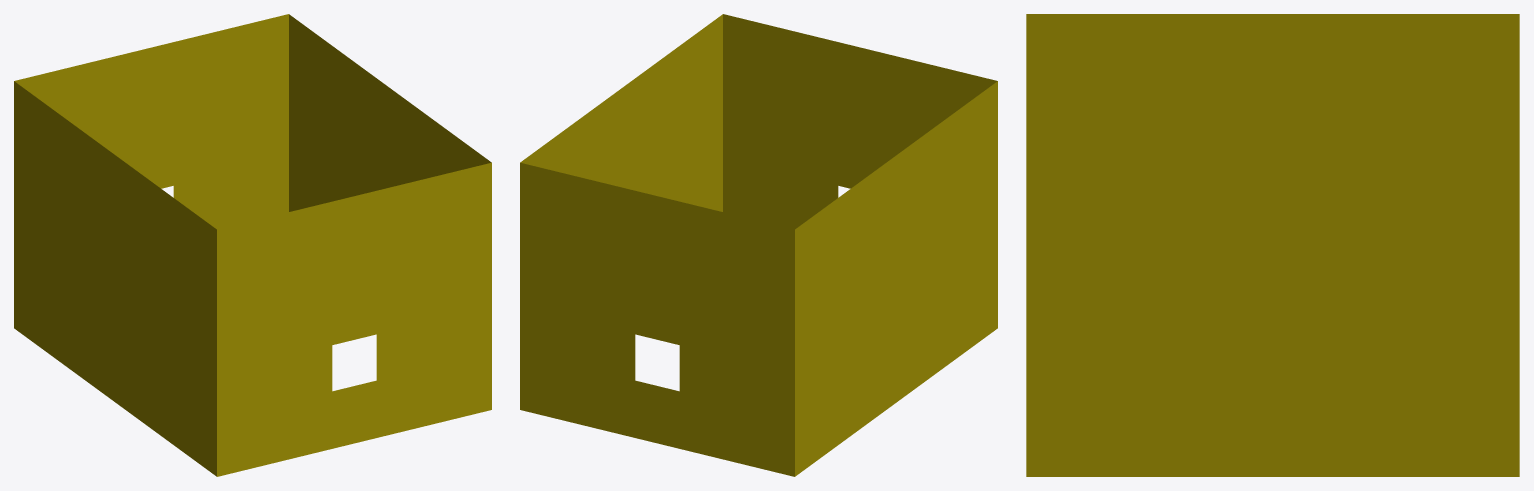
File: SectionOneWalls.fbx
3 renders of one model, left to right at view 1: azimuth 30°, elevation 25°; view 2: azimuth 150°, elevation 25°; view 3: azimuth 270°, elevation 25°, orthographic. The views are drawn at different scales.
Parts seen in each view (by area): view 1: Section1Walls; view 2: Section1Walls; view 3: Section1Walls.
Part boxes in pixels (x1,y1,x2,y2): Section1Walls: (14,14,491,476); Section1Walls: (520,14,997,476); Section1Walls: (1026,14,1519,476).
Size of the model in its own units: 6400 by 5000 by 4300.
